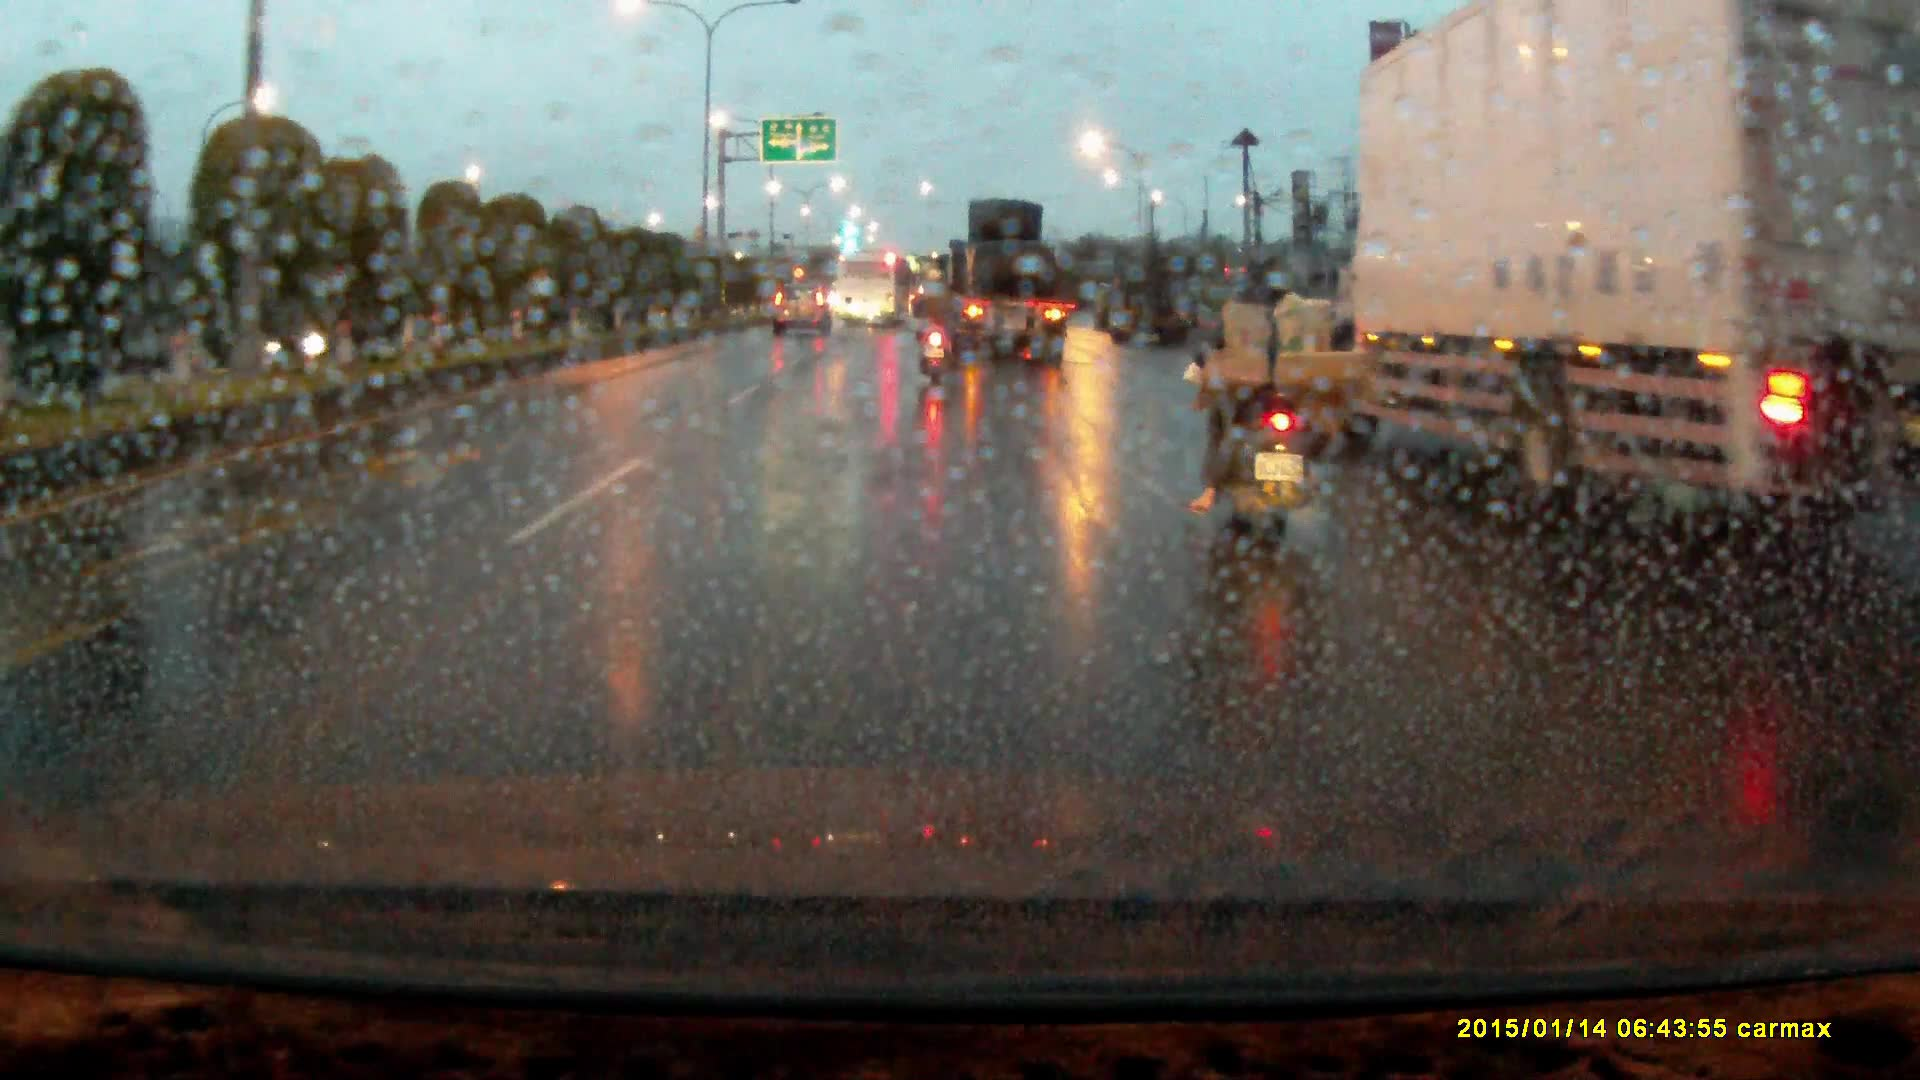rider: (1184, 253, 1375, 576), (912, 286, 955, 391)
vehicle: (1337, 1, 1917, 538), (927, 199, 1066, 368), (1107, 262, 1189, 353), (834, 252, 910, 331), (773, 284, 833, 341)
